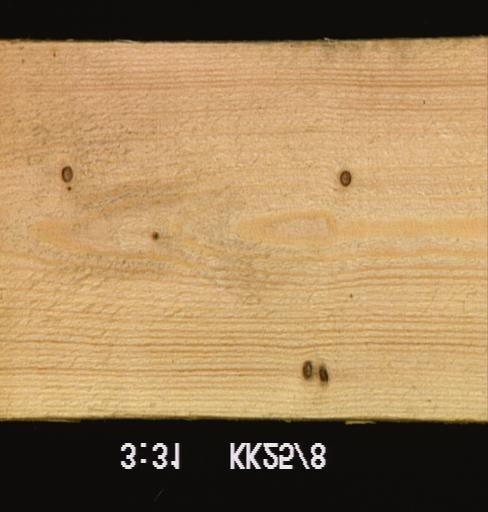dry_knot: (337, 169, 351, 187), (59, 164, 72, 183), (301, 360, 312, 380), (317, 366, 328, 384)
small_knot: (150, 230, 160, 243)
